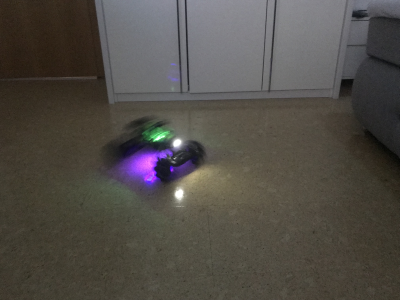remote control car: (105, 116, 208, 181)
